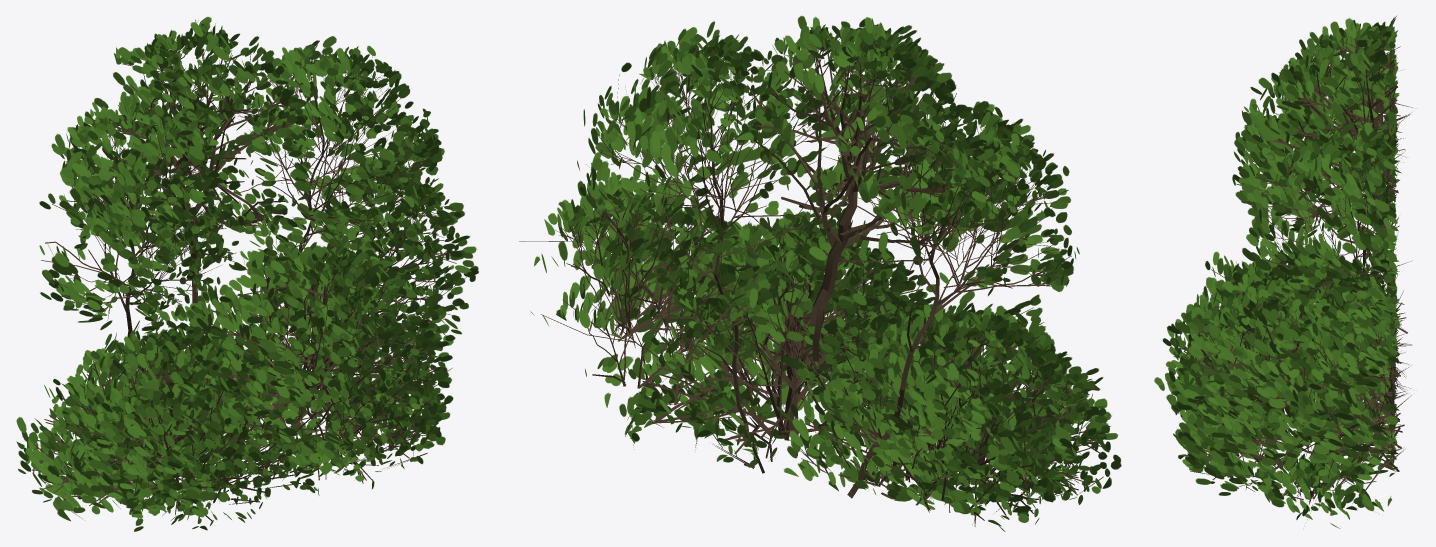
The picture shows the model from 3 angles, left to right: view 1: azimuth 30°, elevation 25°; view 2: azimuth 150°, elevation 25°; view 3: azimuth 270°, elevation 25°; orthographic projection. The views are drawn at different scales.
Visible parts, largest first — view 1: oak 01.001_trunk_Mat.001_0.330; view 2: oak 01.001_trunk_Mat.001_0.330; view 3: oak 01.001_trunk_Mat.001_0.330.
Boxes of the visible parts, x1,y1,x2,y2 form: oak 01.001_trunk_Mat.001_0.330: [16, 16, 478, 531]; oak 01.001_trunk_Mat.001_0.330: [519, 15, 1121, 531]; oak 01.001_trunk_Mat.001_0.330: [1154, 16, 1412, 528].
Bounding box in the file's own units: 4.13 × 3.66 × 2.15.
Materials: 2 (1 with a texture image).
